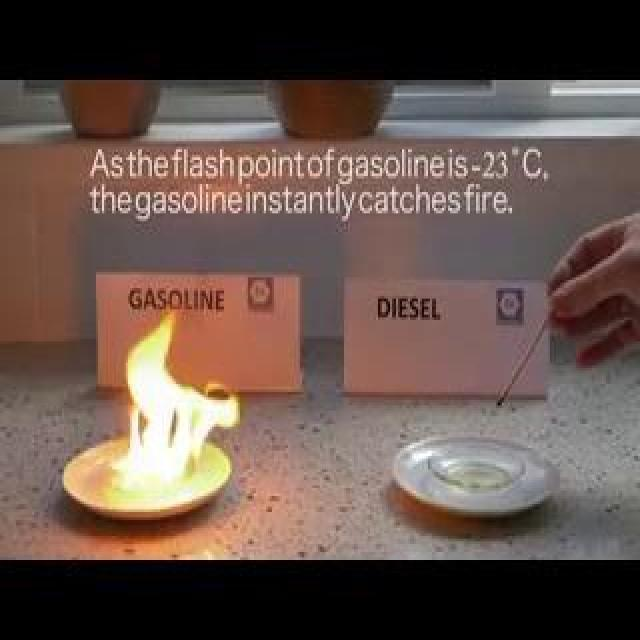Fire: (122, 330, 234, 484)
